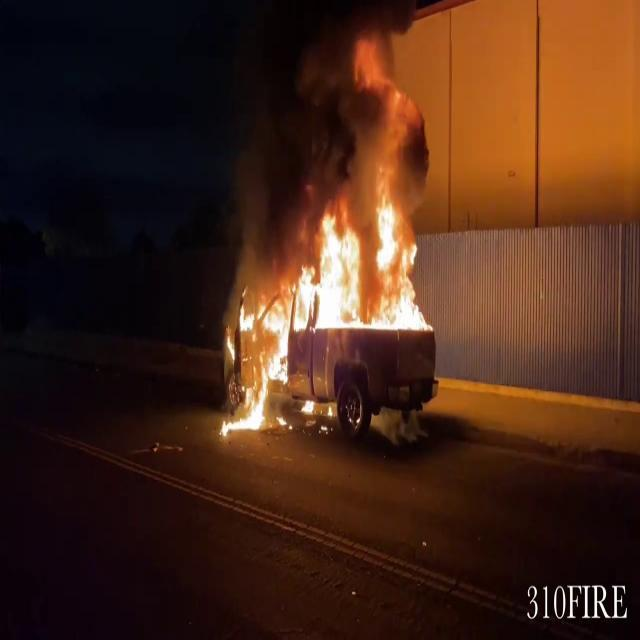Fire: (226, 193, 432, 432)
Smoke: (224, 1, 441, 214)
